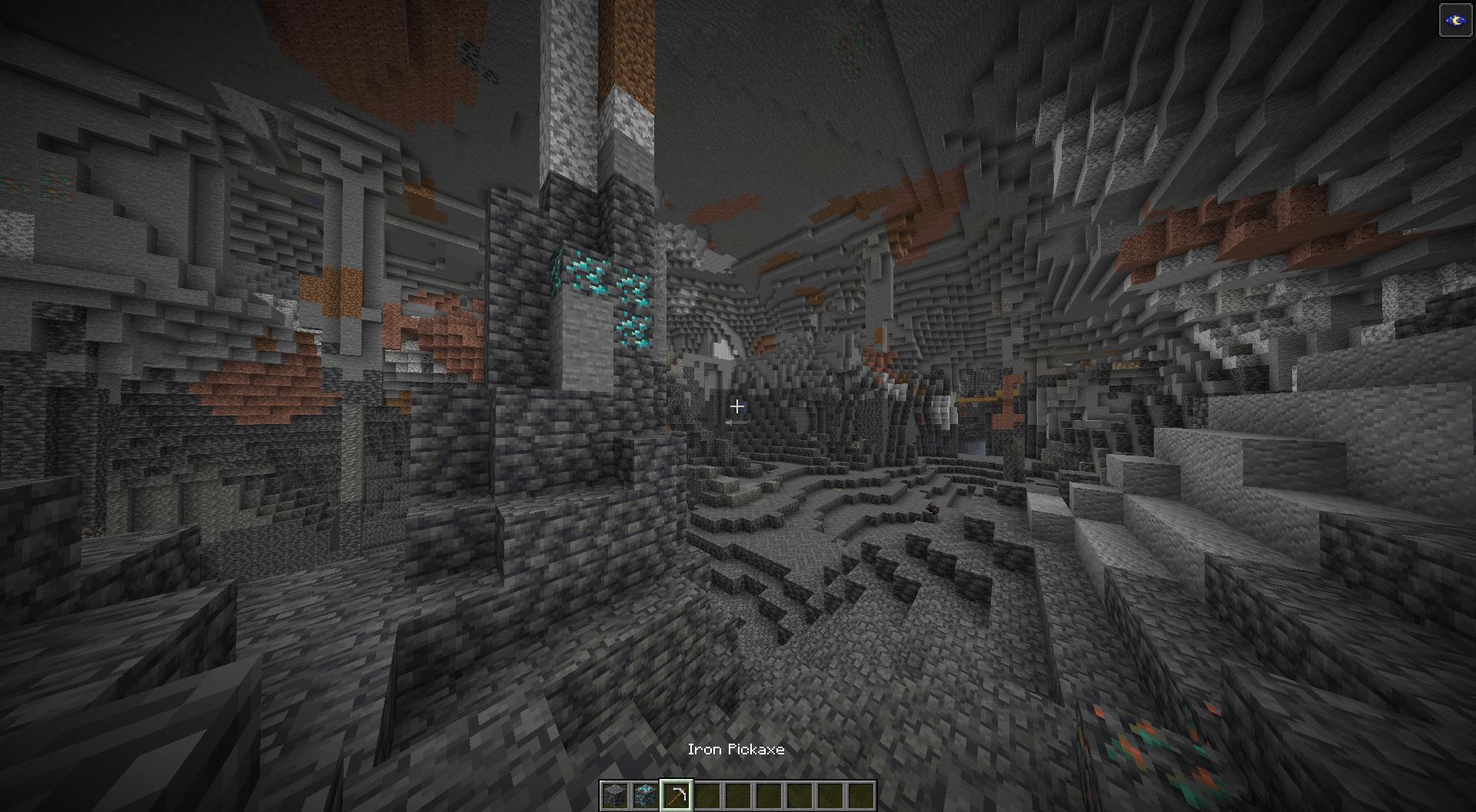diamond ore: (563, 244, 612, 300), (613, 308, 657, 352), (610, 263, 652, 309), (545, 255, 564, 295)
